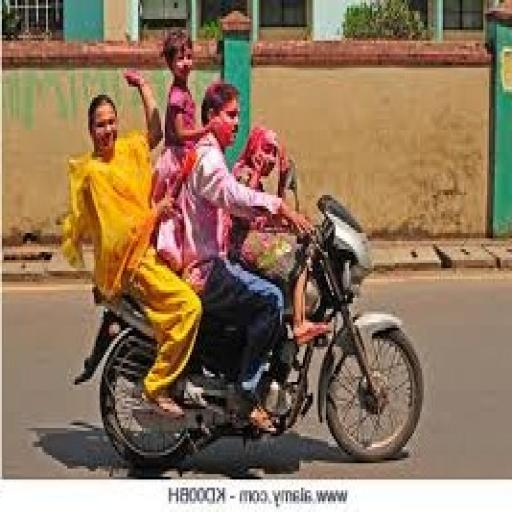overloading: (74, 178, 426, 468)
